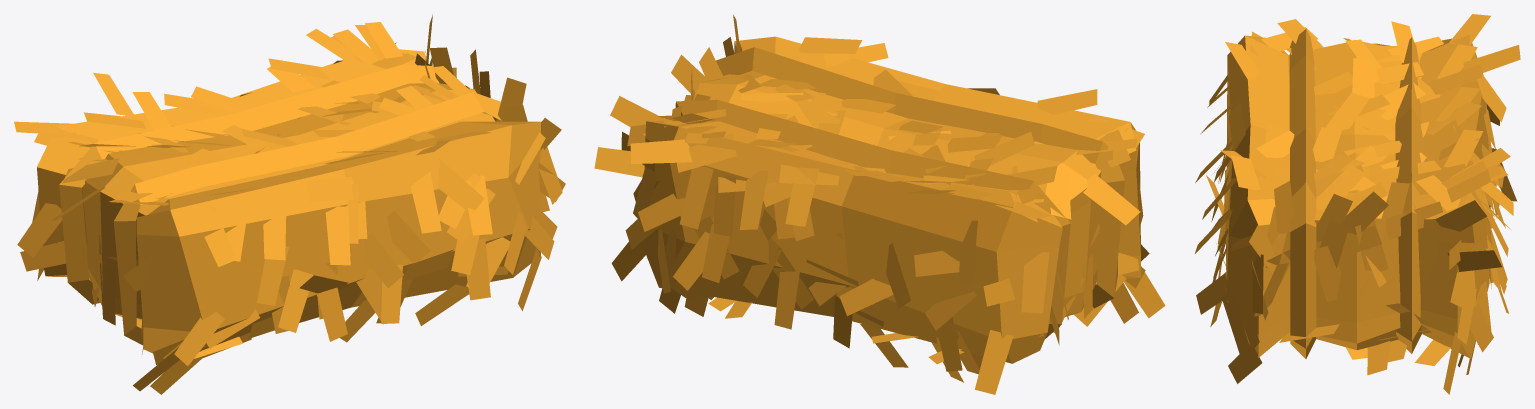
The model's file is SM_Haybale_Square_Small.fbx.
3 views of the same model, side by side, from view 1: azimuth 30°, elevation 25°; view 2: azimuth 150°, elevation 25°; view 3: azimuth 270°, elevation 25° (orthographic). The views are drawn at different scales.
Parts seen in each view (by area): view 1: haybale-square-small; view 2: haybale-square-small; view 3: haybale-square-small.
Boxes of the visible parts, box(x1,y1,x2,y2) form: haybale-square-small: box(14, 14, 565, 394); haybale-square-small: box(594, 14, 1165, 394); haybale-square-small: box(1195, 14, 1520, 394).
Size of the model in its own units: 1.33 by 0.6089 by 0.81.
